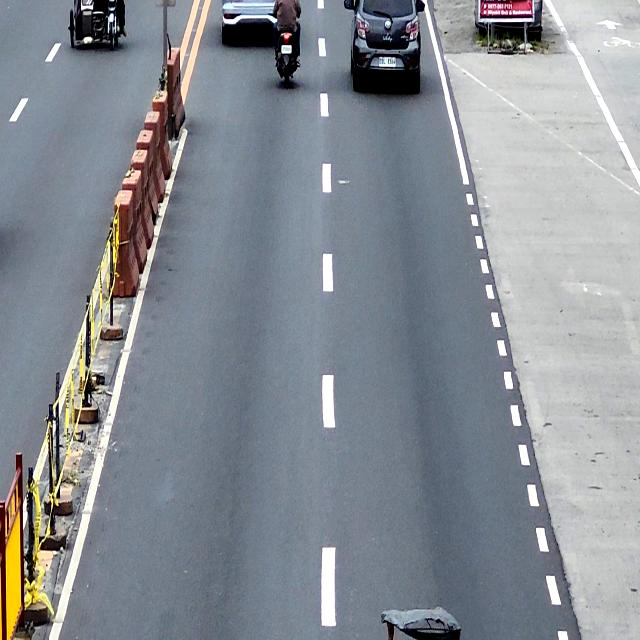Car: (342, 0, 427, 94), (221, 0, 277, 46)
License-Plate: (378, 56, 396, 68), (281, 44, 292, 54)
Motorcycle: (274, 9, 300, 88)
Tricycle: (68, 0, 121, 54)
